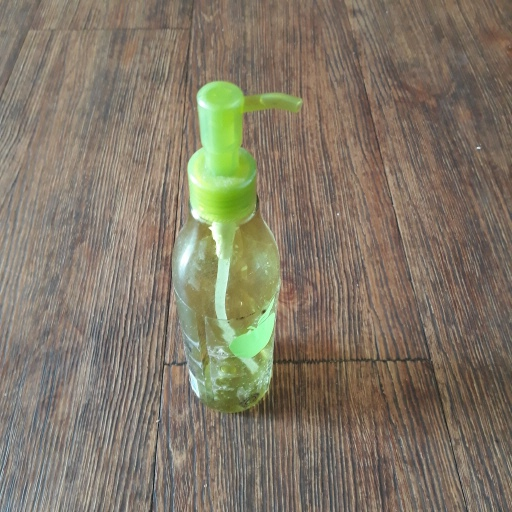Plastic_3: (167, 76, 306, 411)
